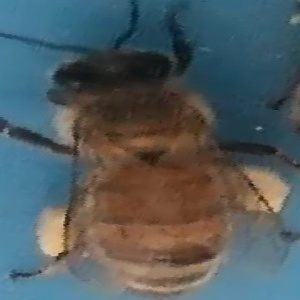bee: (3, 8, 288, 300)
